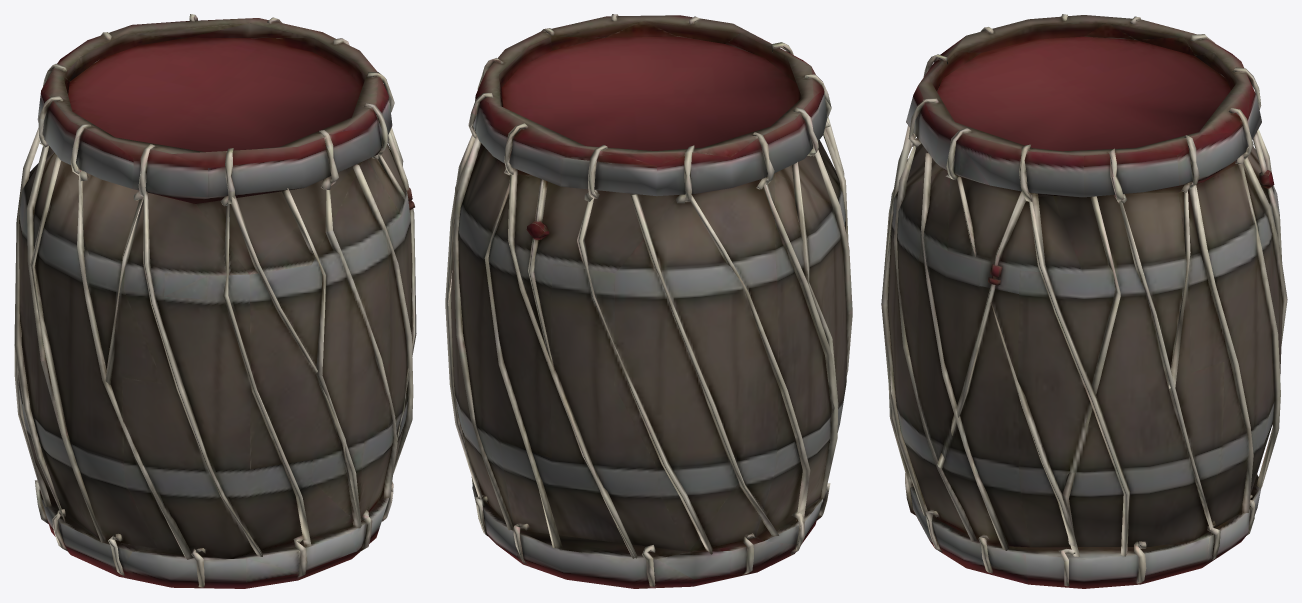
The model's file is war_drum.glb.
3 renders of one model, left to right at view 1: azimuth 30°, elevation 25°; view 2: azimuth 150°, elevation 25°; view 3: azimuth 270°, elevation 25°, orthographic.
Parts seen in each view (by area): view 1: model; view 2: model; view 3: model.
Part boxes in pixels (left/top/right/bottom): model: left=14, top=14, right=416, bottom=588; model: left=445, top=14, right=852, bottom=588; model: left=881, top=14, right=1287, bottom=588.
Bounding box in the file's own units: 0.8513 × 1 × 0.8434.
1 material, 1 textured.
